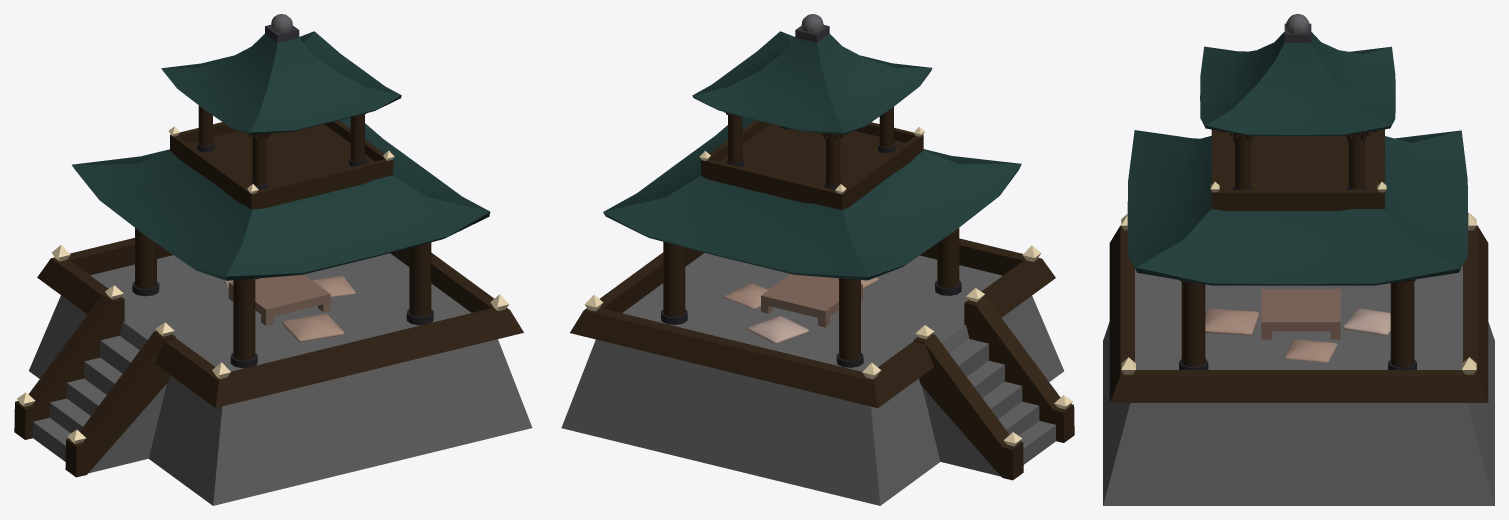
The model's file is alcove012_2.fbx.
The picture shows the model from 3 angles, left to right: view 1: azimuth 30°, elevation 25°; view 2: azimuth 150°, elevation 25°; view 3: azimuth 270°, elevation 25°; orthographic projection. The views are drawn at different scales.
Parts seen in each view (by area): view 1: alcove12_2, stairs_12_1_2, column_12_1_2, table_12_1_2, column_12_2_2, pillow_12_2__2, pillow_12_3_2; view 2: alcove12_2, stairs_12_1_2, column_12_1_2, table_12_1_2, column_12_2_2, pillow_12_1_2, pillow_12_3_2; view 3: alcove12_2, column_12_1_2, table_12_1_2, column_12_2_2, pillow_12_2__2, pillow_12_1_2, pillow_12_3_2.
Part boxes in pixels (box(x1,y1,x2,y2)): alcove12_2: box(17, 14, 532, 505); stairs_12_1_2: box(14, 293, 175, 477); column_12_1_2: box(132, 228, 433, 368); table_12_1_2: box(228, 274, 330, 325); column_12_2_2: box(197, 105, 366, 189); pillow_12_2__2: box(281, 313, 344, 341); pillow_12_3_2: box(311, 276, 355, 296); alcove12_2: box(561, 14, 1072, 505); stairs_12_1_2: box(913, 296, 1074, 480); column_12_1_2: box(661, 228, 961, 367); table_12_1_2: box(761, 274, 862, 327); column_12_2_2: box(724, 107, 895, 189); pillow_12_1_2: box(747, 316, 808, 343); pillow_12_3_2: box(723, 283, 768, 308); alcove12_2: box(1103, 14, 1494, 505); column_12_1_2: box(1179, 279, 1416, 369); table_12_1_2: box(1261, 289, 1340, 339); column_12_2_2: box(1230, 132, 1369, 189); pillow_12_2__2: box(1205, 308, 1259, 335); pillow_12_1_2: box(1342, 308, 1390, 335); pillow_12_3_2: box(1284, 339, 1337, 362).
Bounding box in the file's own units: 1397 × 1306 × 1135.
